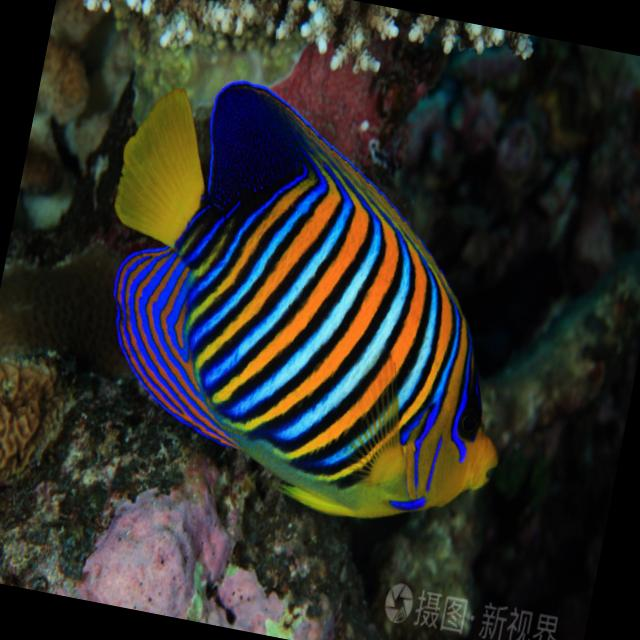AngelFish: (65, 65, 560, 544)
